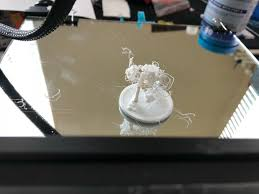fail: (120, 47, 180, 102), (109, 119, 166, 142), (174, 107, 202, 129), (38, 88, 79, 103)
